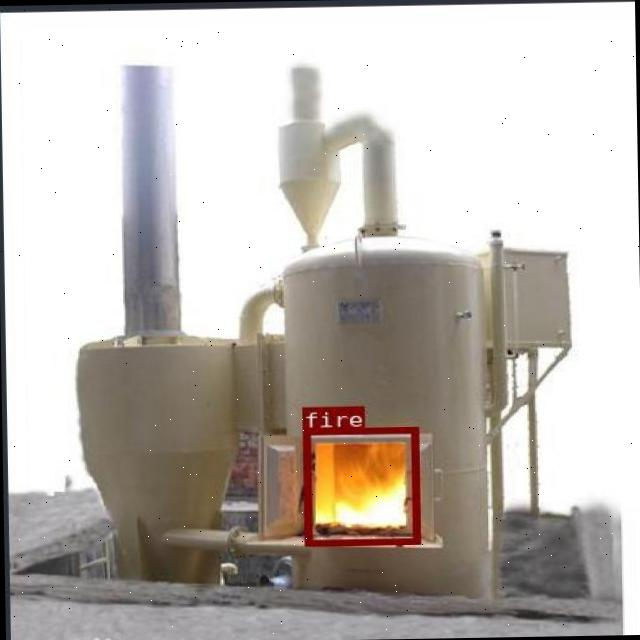fire: (301, 426, 418, 544)
